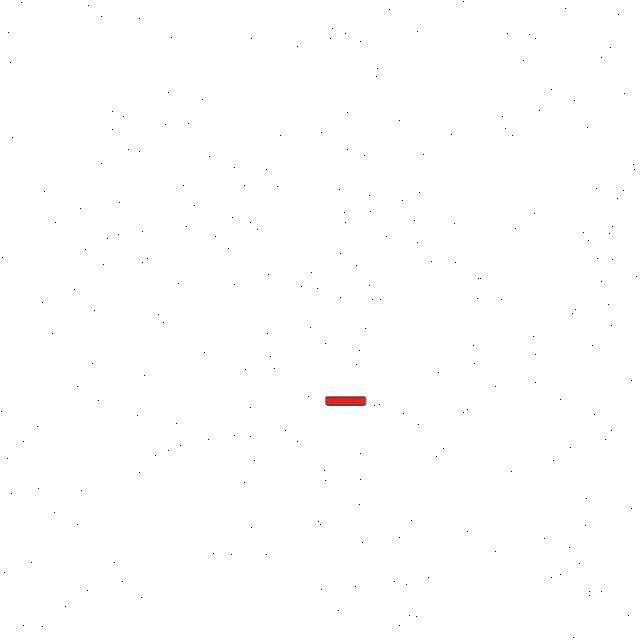3069b: (322, 394, 370, 410)
